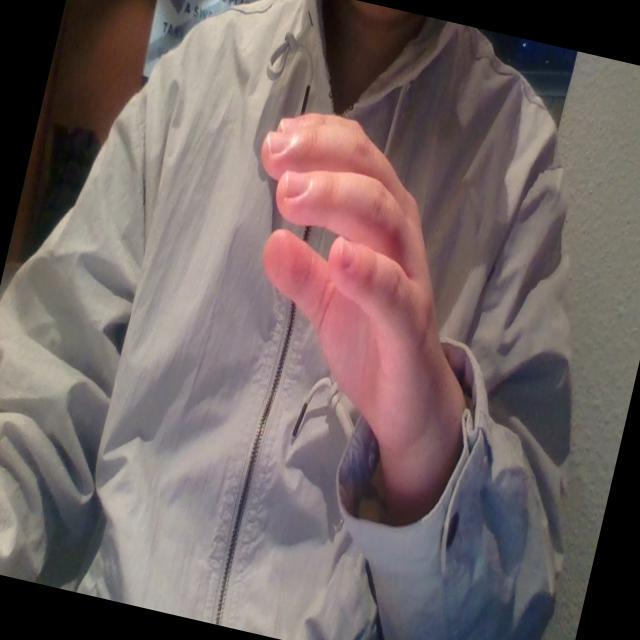hand: (182, 84, 492, 467)
